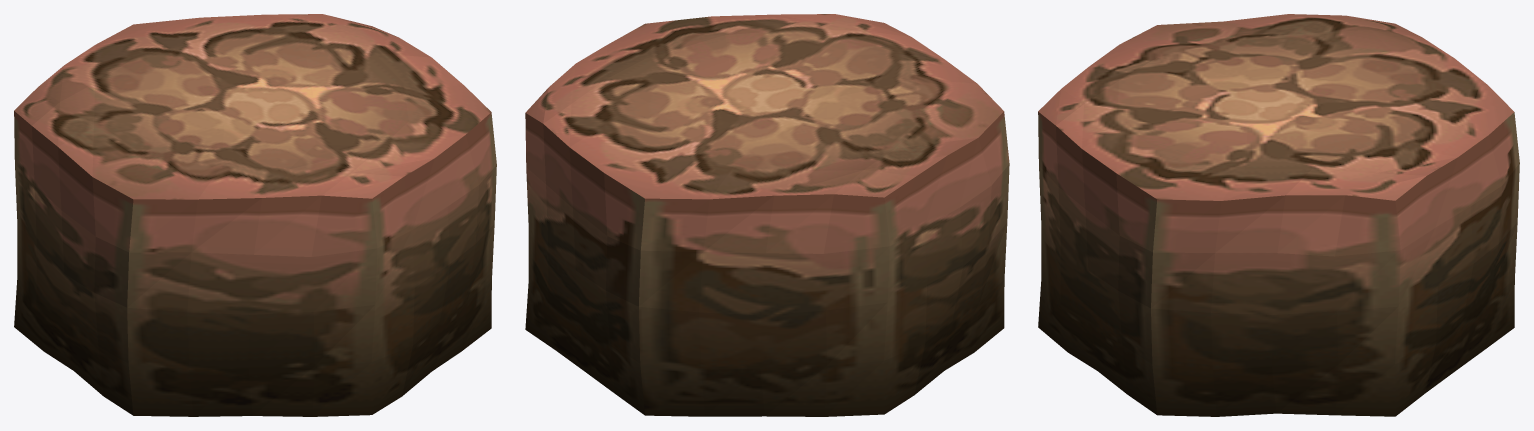
Rendered from tile_land.fbx.
3 views of the same model, side by side, from view 1: azimuth 30°, elevation 25°; view 2: azimuth 150°, elevation 25°; view 3: azimuth 270°, elevation 25° (orthographic).
Visible parts, largest first — view 1: Cylinder002; view 2: Cylinder002; view 3: Cylinder002.
Boxes of the visible parts, box(x1,y1,x2,y2) form: Cylinder002: box(14, 14, 496, 416); Cylinder002: box(525, 14, 1009, 416); Cylinder002: box(1038, 14, 1519, 416).
Bounding box in the file's own units: 4.36 × 4.72 × 2.49.
1 material, 1 textured.
